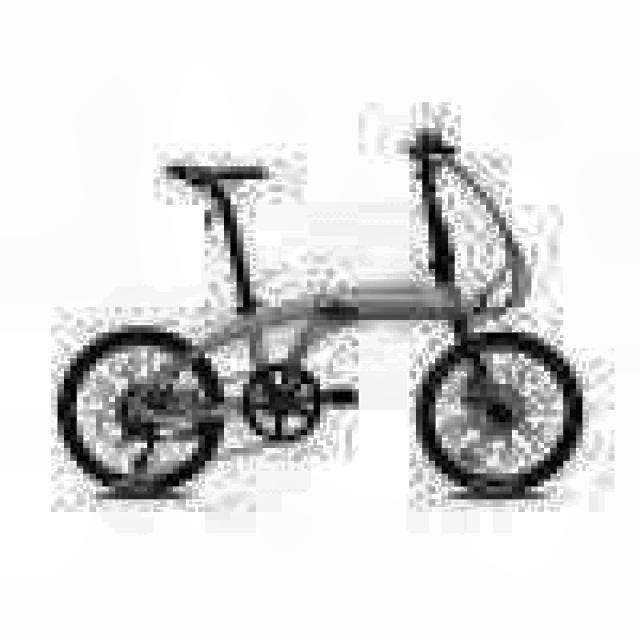bike: (61, 126, 594, 524)
